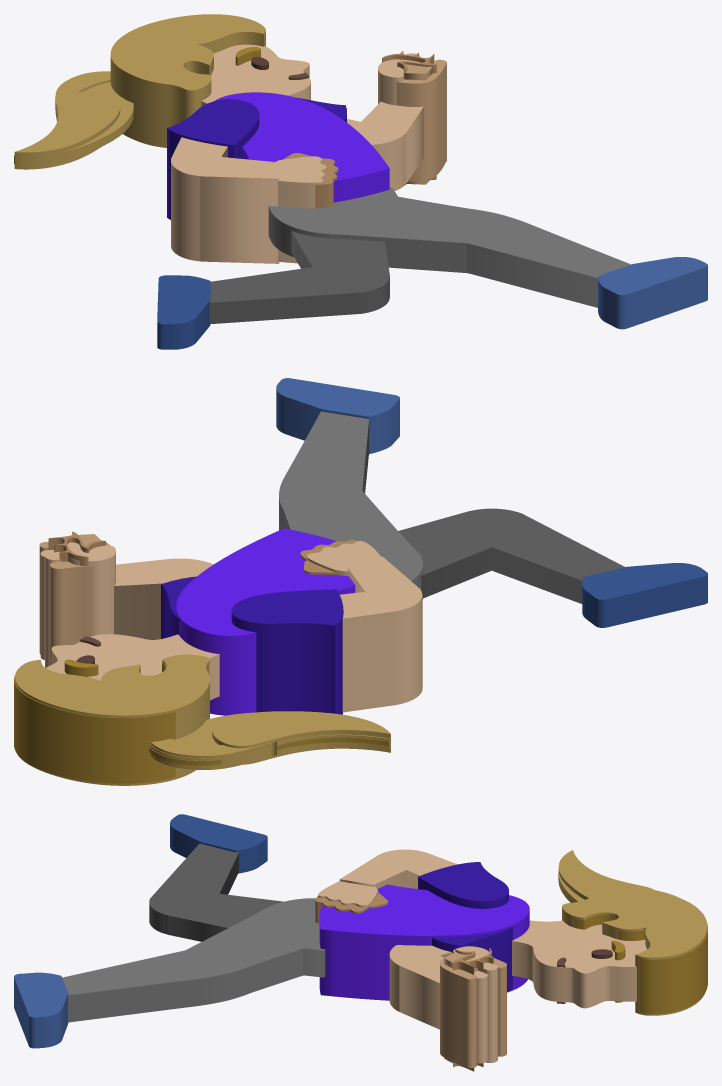
The model's file is emoji_u1f3c3_1f3fc_200d_2640_200d_27a1.glb.
The picture shows the model from 3 angles, top to bottom: view 1: azimuth 30°, elevation 25°; view 2: azimuth 150°, elevation 25°; view 3: azimuth 270°, elevation 25°; orthographic projection. The views are drawn at different scales.
Parts seen in each view (by area): view 1: emoji_u1f3c3_1f3fc_200d_2640_200d_27a1; view 2: emoji_u1f3c3_1f3fc_200d_2640_200d_27a1; view 3: emoji_u1f3c3_1f3fc_200d_2640_200d_27a1.
Part boxes in pixels (x1,y1,x2,y2): emoji_u1f3c3_1f3fc_200d_2640_200d_27a1: (14,14,707,349); emoji_u1f3c3_1f3fc_200d_2640_200d_27a1: (14,378,707,785); emoji_u1f3c3_1f3fc_200d_2640_200d_27a1: (14,814,707,1071).
Size of the model in its own units: 0.023 by 0.0054 by 0.0325.
